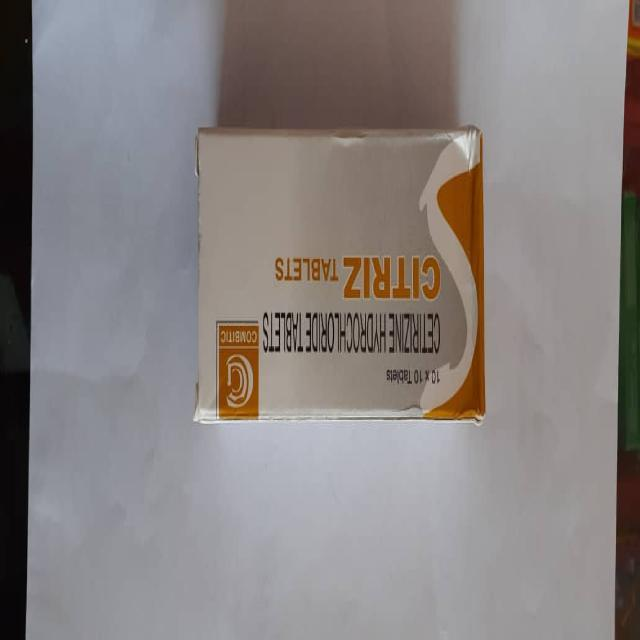drug-name: (342, 249, 444, 302)
